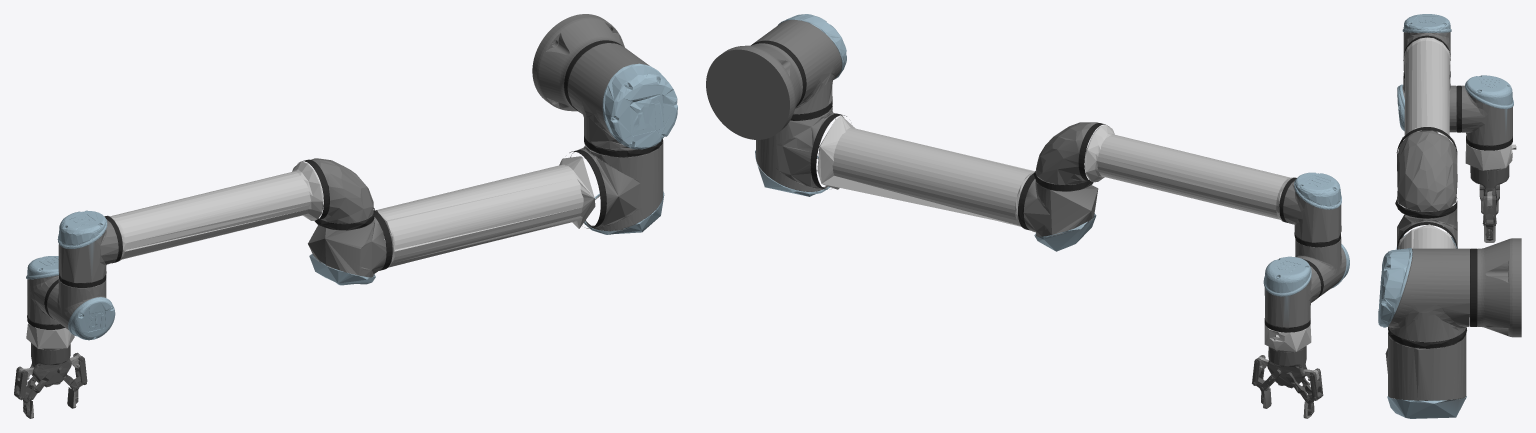
The model's file is ur10e_rig.glb.
3 renders of one model, left to right at view 1: azimuth 30°, elevation 25°; view 2: azimuth 150°, elevation 25°; view 3: azimuth 270°, elevation 25°, orthographic. The views are drawn at different scales.
Parts seen in each view (by area): view 1: upper_arm_link_geom, forearm_link_geom, shoulder_link_geom, base_geom, wrist_3_link_geom, wrist_1_link_geom, wrist_2_link_geom; view 2: upper_arm_link_geom, forearm_link_geom, base_geom, shoulder_link_geom, wrist_3_link_geom, wrist_2_link_geom, wrist_1_link_geom; view 3: forearm_link_geom, shoulder_link_geom, upper_arm_link_geom, base_geom, wrist_2_link_geom, wrist_3_link_geom, wrist_1_link_geom.
Part boxes in pixels (bbox=[...]): upper_arm_link_geom: bbox=[308, 140, 664, 285]; forearm_link_geom: bbox=[57, 158, 373, 287]; shoulder_link_geom: bbox=[567, 43, 677, 157]; base_geom: bbox=[532, 14, 624, 112]; wrist_3_link_geom: bbox=[14, 323, 87, 418]; wrist_1_link_geom: bbox=[44, 277, 115, 340]; wrist_2_link_geom: bbox=[26, 256, 64, 329]; upper_arm_link_geom: bbox=[755, 105, 1098, 251]; forearm_link_geom: bbox=[1036, 122, 1341, 247]; base_geom: bbox=[706, 40, 806, 139]; shoulder_link_geom: bbox=[753, 14, 846, 120]; wrist_3_link_geom: bbox=[1252, 323, 1323, 418]; wrist_2_link_geom: bbox=[1263, 256, 1321, 332]; wrist_1_link_geom: bbox=[1295, 237, 1349, 299]; forearm_link_geom: bbox=[1396, 14, 1457, 211]; shoulder_link_geom: bbox=[1378, 248, 1469, 348]; upper_arm_link_geom: bbox=[1385, 197, 1466, 418]; base_geom: bbox=[1470, 238, 1521, 337]; wrist_2_link_geom: bbox=[1462, 75, 1513, 150]; wrist_3_link_geom: bbox=[1465, 142, 1516, 242]; wrist_1_link_geom: bbox=[1397, 76, 1461, 132].
Size of the model in its own units: 1.35 by 0.5292 by 0.2747.
